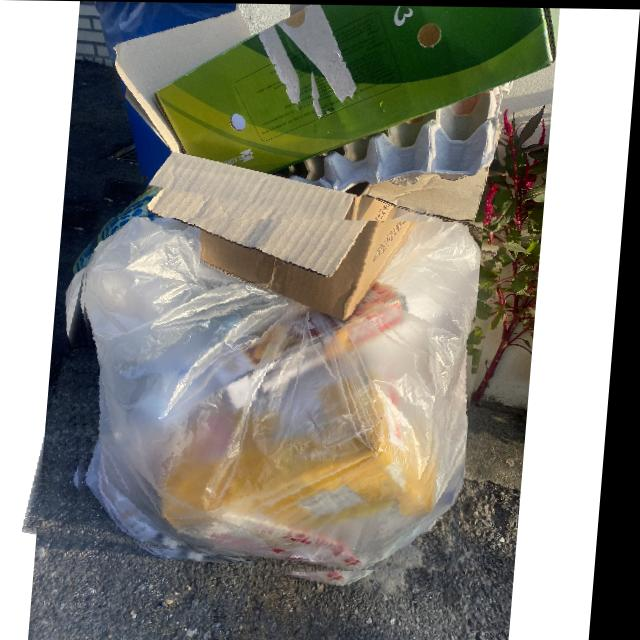other_trashbag: (89, 218, 485, 573)
